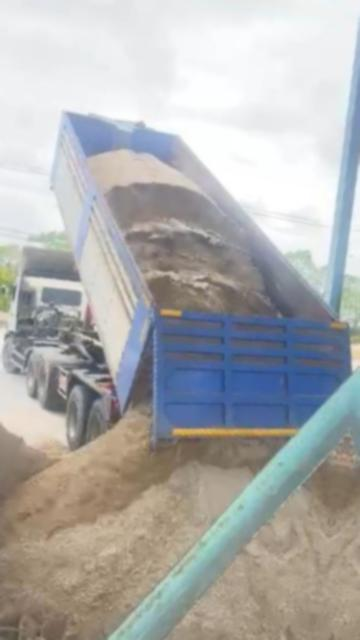sand: (0, 406, 278, 640), (89, 150, 276, 314), (169, 488, 332, 640), (0, 416, 60, 520), (306, 433, 349, 520)
